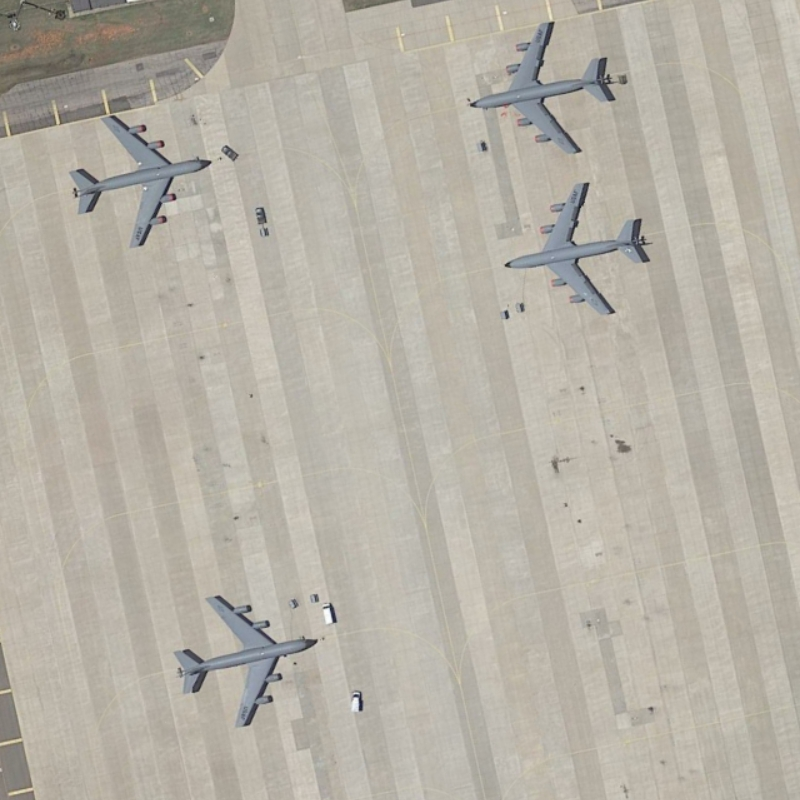A14: (493, 173, 660, 323), (165, 583, 323, 735), (467, 12, 620, 158), (63, 103, 211, 253)
